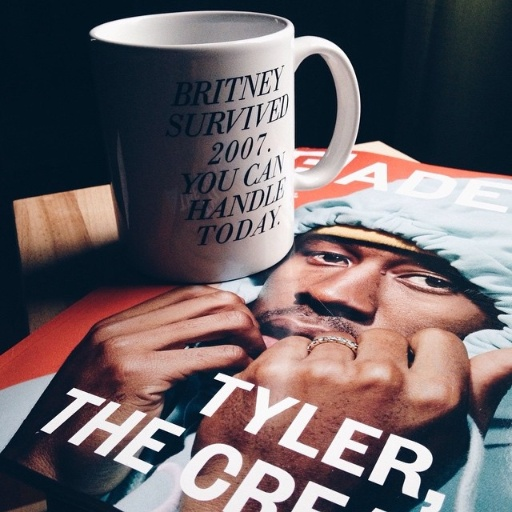hand: (190, 324, 511, 511), (1, 280, 268, 500)
